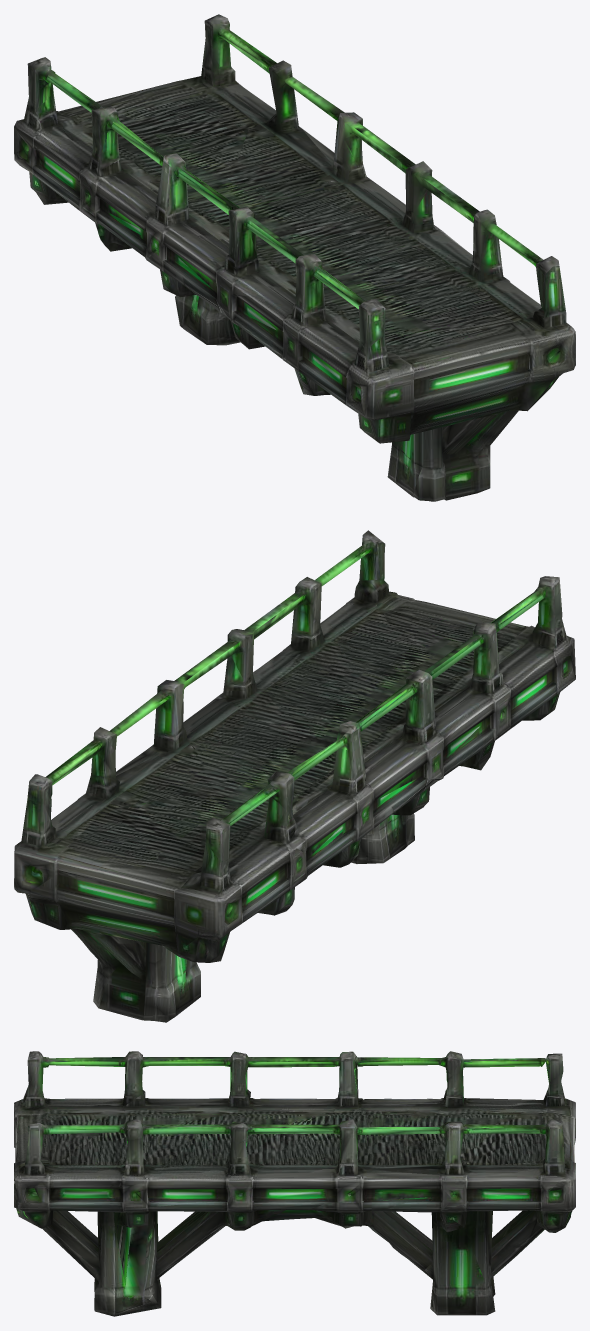
Rendered from catwalk-section.glb.
3 views of the same model, one above another, from view 1: azimuth 30°, elevation 25°; view 2: azimuth 150°, elevation 25°; view 3: azimuth 270°, elevation 25° (orthographic). The views are drawn at different scales.
Parts seen in each view (by area): view 1: material; view 2: material; view 3: material.
Part boxes in pixels (box(x1,y1,x2,y2)): material: box(14, 14, 575, 501); material: box(14, 530, 575, 1022); material: box(14, 1051, 575, 1316).
Size of the model in its own units: 0.3819 by 0.4409 by 1.11.
Materials: 1 (1 with a texture image).
